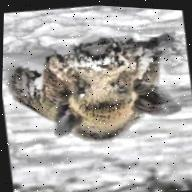boar: (1, 15, 188, 157)
